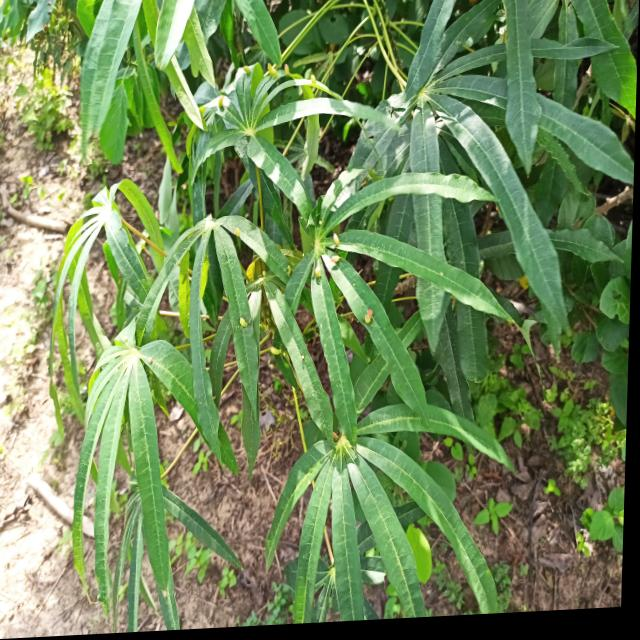Mosca: (329, 230, 348, 270), (258, 60, 278, 87), (211, 90, 233, 114), (356, 301, 374, 329), (140, 349, 161, 370), (307, 67, 320, 94), (235, 309, 254, 326), (233, 219, 247, 239), (280, 59, 293, 78), (311, 260, 320, 281), (296, 349, 309, 363)
